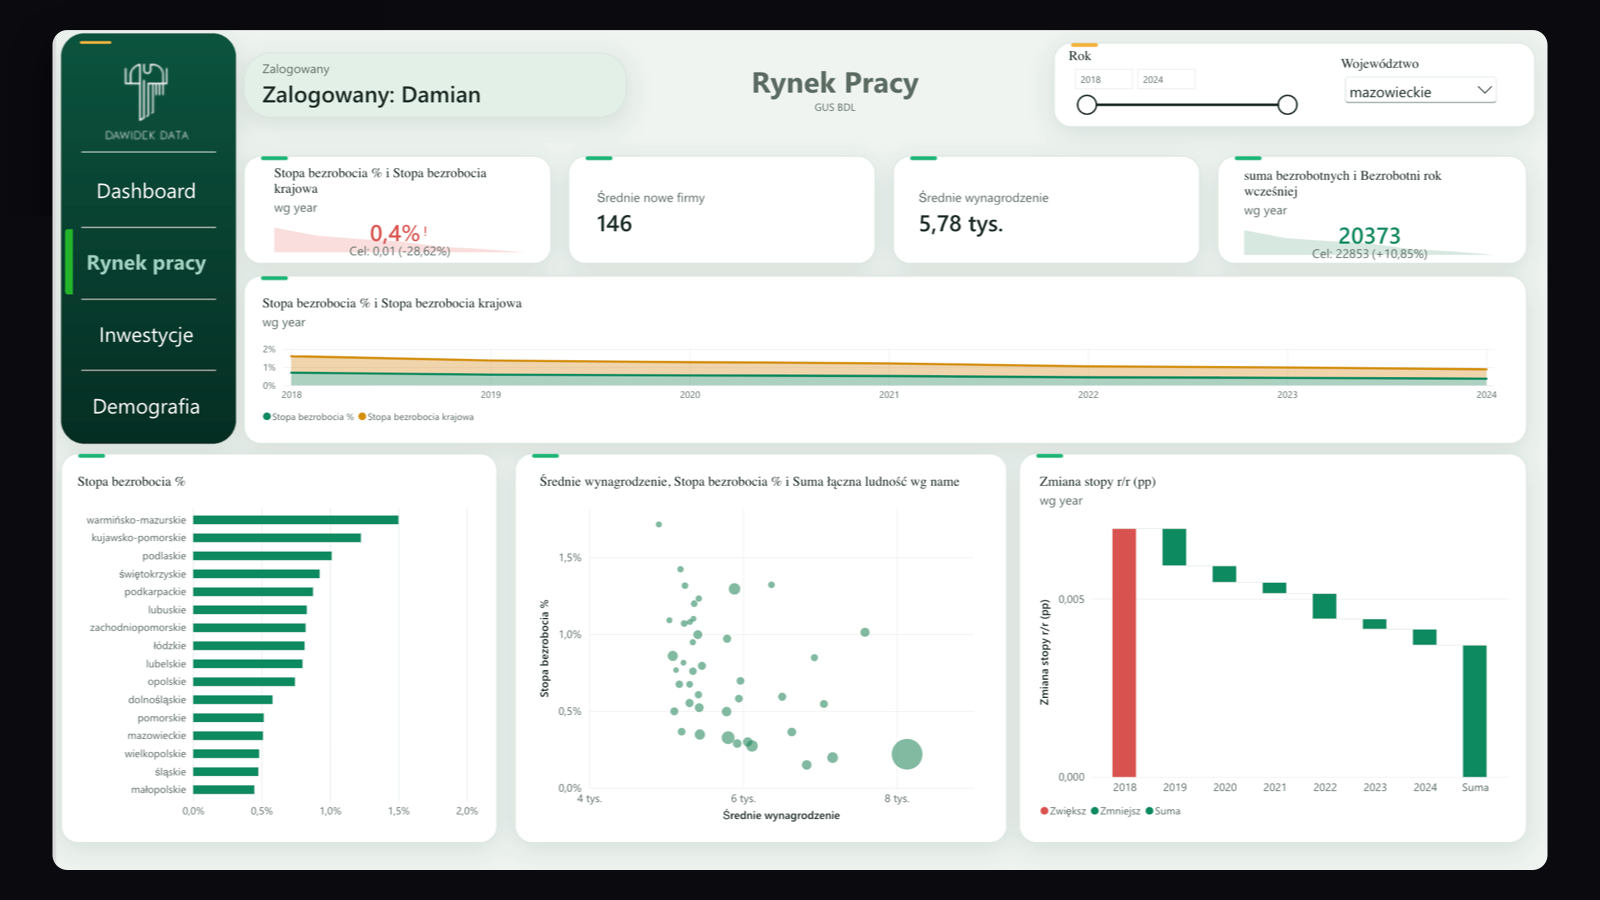

The dashboard page shown, as its layout file describes it:
{"tool":"powerbi","page":{"name":"Rynek pracy","canvas":[1920,1080],"ordinal":1},"visuals":[{"type":"slicer","title":"Rok","fields":{"Values":["public dim_year.year"]},"box":[1296.8,21.5,296.3,90.2],"z":0},{"type":"slicer","title":"Województwo","fields":{"Values":["public dim_units.voivodeship_name","public dim_units.unit_type"]},"box":[1644.2,31,204.7,76.8],"z":1000},{"type":"textbox","box":[751.4,37.7,491.5,70],"z":2000},{"type":"cardVisual","fields":{"Data":["_Measures.Zalogowany"]},"box":[247.8,37.7,471.3,60.6],"z":3000},{"type":"kpi","fields":{"Goal":["_Measures.Stopa bezrobocia krajowa"],"Indicator":["_Measures.Stopa bezrobocia %"],"TrendLine":["public dim_year.year"]},"box":[262.6,157.6,354.2,141.4],"z":4000},{"type":"kpi","fields":{"Goal":["_Measures.Bezrobotni rok wcześniej"],"Indicator":["_Measures.suma bezrobotnych"],"TrendLine":["public dim_year.year"]},"box":[1505.5,161.6,354.2,141.4],"z":5000},{"type":"cardVisual","fields":{"Data":["_Measures.Średnie nowe firmy"]},"box":[677.4,177.8,356.9,110.4],"z":6000},{"type":"cardVisual","fields":{"Data":["_Measures.Średnie wynagrodzenie"]},"box":[1088.1,177.8,356.9,110.4],"z":7000},{"type":"barChart","title":"Stopa bezrobocia %","fields":{"Category":["public dim_units.voivodeship_name"],"Y":["_Measures.Stopa bezrobocia %"]},"box":[12.1,553.5,545.4,475.4],"z":8000},{"type":"scatterChart","fields":{"Category":["public dim_units.name"],"Size":["_Measures.Suma łączna ludność"],"X":["_Measures.Średnie wynagrodzenie"],"Y":["_Measures.Stopa bezrobocia %"]},"box":[603.3,553.5,603.3,475.4],"z":9000},{"type":"waterfallChart","fields":{"Category":["public dim_year.year"],"Y":["_Measures.Zmiana stopy r/r (pp)"]},"box":[1242.9,553.5,631.6,475.4],"z":10000},{"type":"stackedAreaChart","fields":{"Category":["public dim_year.year"],"Y":["_Measures.Stopa bezrobocia %","_Measures.Stopa bezrobocia krajowa"]},"box":[247.8,324.5,1611.9,198],"z":11000},{"type":"pageNavigator","box":[12.1,161.6,208.7,360.9],"z":12000}]}

Visuals, with their boxes on the page's 1920x1080 design canvas (x1, y1, x2, y2). These are canvas units, not pixel positions in the 1600x900 screenshot, which may show the page scaled, cropped or inside an application window:
"Rok" slicer: [left=1297, top=22, right=1593, bottom=112]
"Województwo" slicer: [left=1644, top=31, right=1849, bottom=108]
textbox: [left=751, top=38, right=1243, bottom=108]
cardVisual - _Measures.Zalogowany: [left=248, top=38, right=719, bottom=98]
kpi - _Measures.Stopa bezrobocia krajowa x _Measures.Stopa bezrobocia %: [left=263, top=158, right=617, bottom=299]
kpi - _Measures.Bezrobotni rok wcześniej x _Measures.suma bezrobotnych: [left=1506, top=162, right=1860, bottom=303]
cardVisual - _Measures.Średnie nowe firmy: [left=677, top=178, right=1034, bottom=288]
cardVisual - _Measures.Średnie wynagrodzenie: [left=1088, top=178, right=1445, bottom=288]
"Stopa bezrobocia %" barChart: [left=12, top=554, right=558, bottom=1029]
scatterChart - public dim_units.name x _Measures.Suma łączna ludność: [left=603, top=554, right=1207, bottom=1029]
waterfallChart - public dim_year.year x _Measures.Zmiana stopy r/r (pp): [left=1243, top=554, right=1874, bottom=1029]
stackedAreaChart - public dim_year.year x _Measures.Stopa bezrobocia %: [left=248, top=324, right=1860, bottom=522]
pageNavigator: [left=12, top=162, right=221, bottom=522]
